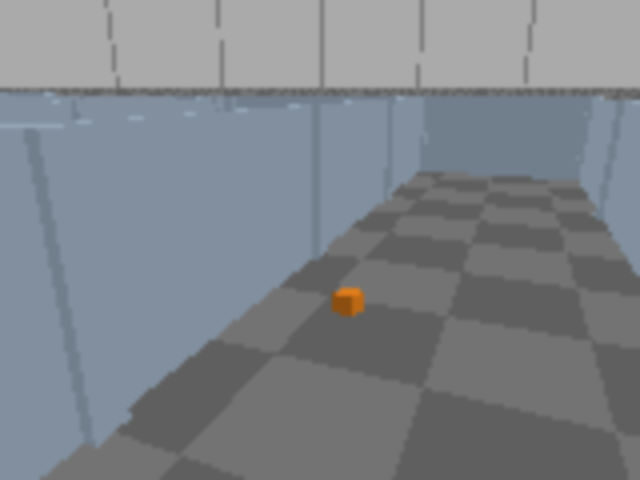puck: (334, 286, 364, 318)
